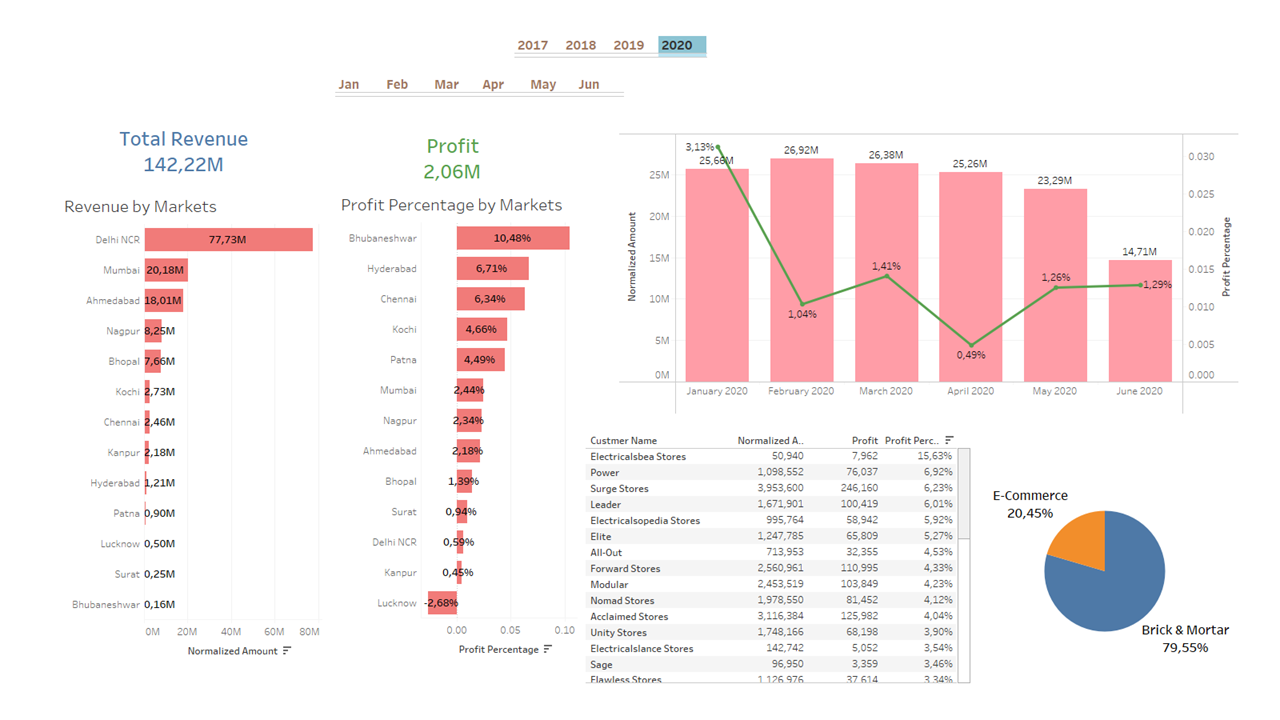

This screenshot's page, from the dashboard's own definition file:
{"tool":"tableau","page":{"name":"Dashboard - Profit Analysis","canvas":[1500,900],"ordinal":0},"visuals":[{"type":"worksheet","title":"Year","mark":"Automatic","cols":["cy_date"],"box":[593,30,260,47]},{"type":"worksheet","title":"Month","mark":"Automatic","cols":["cy_date"],"box":[369,79,744,57]},{"type":"worksheet","title":"Revenue","mark":"Automatic","box":[90,141,201,98]},{"type":"worksheet","title":"Profit","mark":"Automatic","box":[466,150,115,95]},{"type":"worksheet","title":"Profit Trend","mark":"Bar","rows":["Calculation_1449596146905944064","Calculation_1242712039099510784"],"cols":["cy_date"],"box":[724,152,775,366]},{"type":"worksheet","title":"Profit Percentage by Markets","mark":"Automatic","rows":["markets_name"],"cols":["Calculation_1242712039099510784"],"box":[372,235,299,637]},{"type":"worksheet","title":"Revenue by Markets","mark":"Automatic","rows":["markets_name"],"cols":["Calculation_1449596146905944064"],"box":[26,237,326,634]},{"type":"worksheet","title":"Customer Table","mark":"Automatic","rows":["custmer_name"],"box":[682,525,493,329]},{"type":"worksheet","title":"Pie Chart","mark":"Pie","box":[1173,548,316,317]}]}

Visuals, with their boxes on the page's 1500x900 design canvas (x1, y1, x2, y2). These are canvas units, not pixel positions in the 1280x720 screenshot, which may show the page scaled, cropped or inside an application window:
"Year" worksheet: box(593, 30, 853, 77)
"Month" worksheet: box(369, 79, 1113, 136)
"Revenue" worksheet: box(90, 141, 291, 239)
"Profit" worksheet: box(466, 150, 581, 245)
"Profit Trend" worksheet (Bar marks): box(724, 152, 1499, 518)
"Profit Percentage by Markets" worksheet: box(372, 235, 671, 872)
"Revenue by Markets" worksheet: box(26, 237, 352, 871)
"Customer Table" worksheet: box(682, 525, 1175, 854)
"Pie Chart" worksheet (Pie marks): box(1173, 548, 1489, 865)
